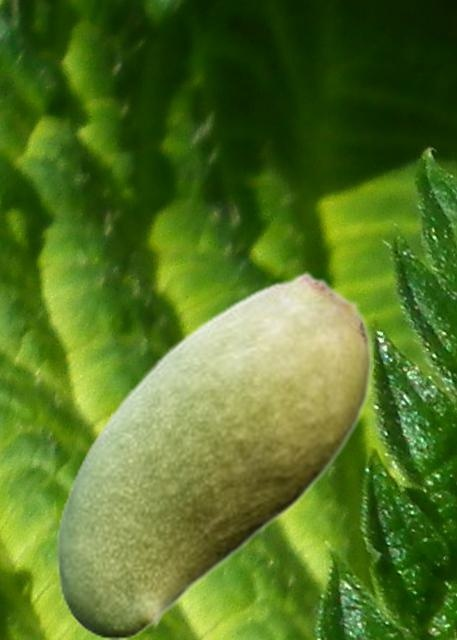green_mango: (55, 271, 372, 638)
